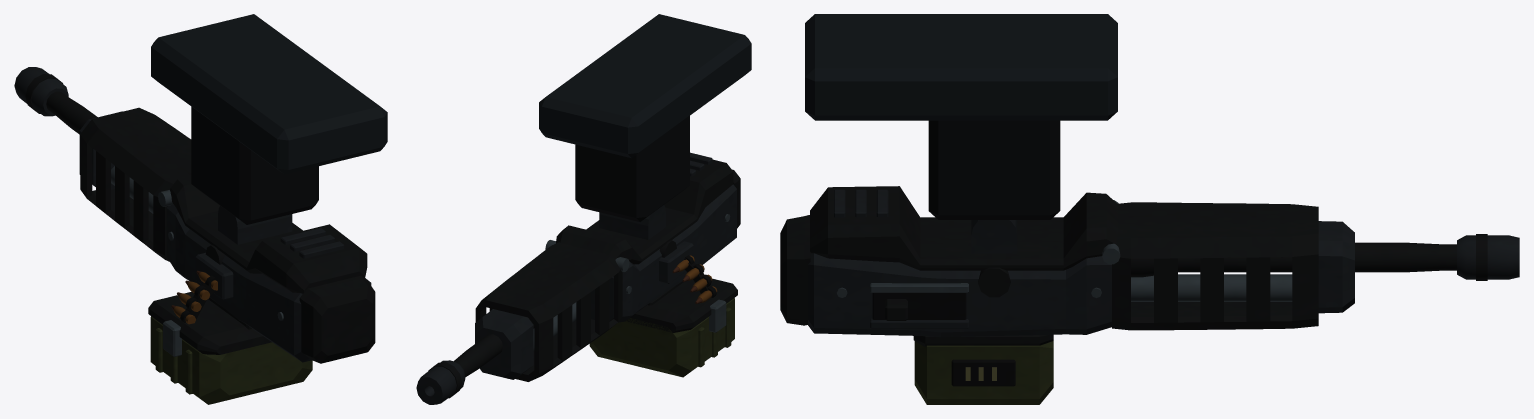
Rendered from Gun556Air__Station.obj.
3 views of the same model, side by side, from view 1: azimuth 30°, elevation 25°; view 2: azimuth 150°, elevation 25°; view 3: azimuth 270°, elevation 25° (orthographic). The views are drawn at different scales.
Visible parts, largest first — view 1: Mount_lug, Vented_Fore_Shroud, Mount_bearing_bridge, Hinged_Feed_Cover, Stamped_Receiver, Ammo_Cassette, Rear_Service_Cap, Cassette_Lid, Integral_Receiver_Contact, Muzzle_Collar, Barrel_Shank, Feed_Throat (+8 smaller); view 2: Mount_lug, Vented_Fore_Shroud, Mount_bearing_bridge, Hinged_Feed_Cover, Ammo_Cassette, Stamped_Receiver, Cassette_Lid, Gas_Block, Muzzle_Collar, Integral_Receiver_Contact, Barrel_Shank, Feed_Throat (+1 smaller); view 3: Mount_lug, Vented_Fore_Shroud, Stamped_Receiver, Hinged_Feed_Cover, Mount_bearing_bridge, Ammo_Cassette, Barrel_Shank, Gas_Block, Rear_Service_Cap, Gas_Tube, Muzzle_Collar, Ejection_Recess_Bed (+6 smaller).
Boxes of the visible parts, x1,y1,x2,y2 form: Mount_lug: [151, 14, 387, 174]; Vented_Fore_Shroud: [80, 107, 191, 261]; Mount_bearing_bridge: [191, 106, 318, 224]; Hinged_Feed_Cover: [169, 176, 367, 293]; Stamped_Receiver: [166, 204, 371, 362]; Ammo_Cassette: [150, 316, 312, 404]; Rear_Service_Cap: [299, 275, 375, 363]; Cassette_Lid: [148, 291, 271, 354]; Integral_Receiver_Contact: [218, 206, 292, 244]; Muzzle_Collar: [14, 67, 68, 116]; Barrel_Shank: [46, 91, 97, 134]; Feed_Throat: [195, 252, 233, 299]; Mount_lug: [539, 14, 751, 158]; Vented_Fore_Shroud: [475, 242, 622, 381]; Mount_bearing_bridge: [575, 116, 689, 221]; Hinged_Feed_Cover: [556, 159, 733, 264]; Ammo_Cassette: [589, 298, 734, 377]; Stamped_Receiver: [591, 184, 736, 322]; Cassette_Lid: [627, 278, 737, 332]; Gas_Block: [475, 309, 533, 379]; Muzzle_Collar: [416, 360, 465, 404]; Integral_Receiver_Contact: [599, 205, 665, 239]; Barrel_Shank: [454, 318, 534, 377]; Feed_Throat: [659, 241, 693, 283]; Mount_lug: [805, 14, 1117, 120]; Vented_Fore_Shroud: [1112, 202, 1318, 330]; Stamped_Receiver: [808, 253, 1111, 337]; Hinged_Feed_Cover: [810, 186, 1118, 270]; Mount_bearing_bridge: [928, 120, 1060, 219]; Ammo_Cassette: [914, 341, 1053, 404]; Barrel_Shank: [1131, 242, 1456, 277]; Gas_Block: [1318, 221, 1354, 313]; Rear_Service_Cap: [780, 215, 810, 325]; Gas_Tube: [1131, 274, 1292, 301]; Muzzle_Collar: [1457, 235, 1519, 279]; Ejection_Recess_Bed: [872, 293, 966, 319].
Size of the model in its own units: 0.242 by 0.473 by 0.898.
